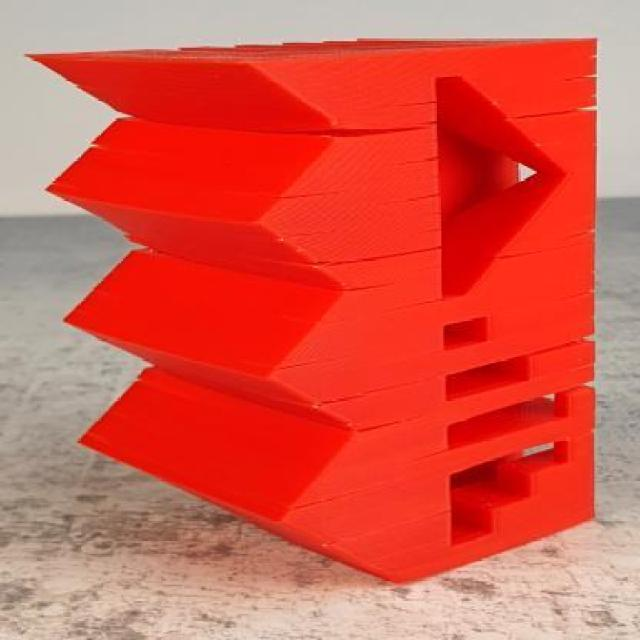cracks: (298, 250, 427, 307), (317, 113, 418, 145), (312, 422, 417, 449), (527, 328, 602, 360), (293, 388, 412, 408), (248, 356, 370, 375), (256, 496, 341, 516), (564, 371, 604, 402), (529, 101, 605, 114), (260, 190, 318, 207), (544, 222, 598, 240), (555, 267, 607, 282), (542, 288, 606, 298), (567, 68, 605, 82)
